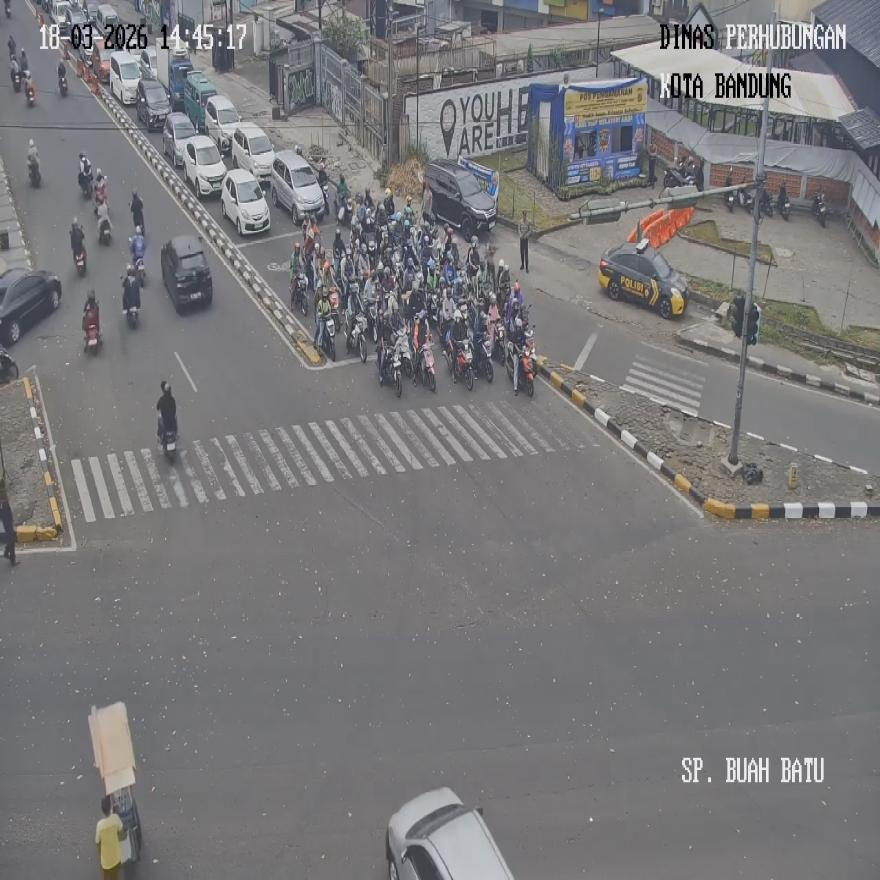Mobil: (385, 787, 515, 879), (599, 236, 688, 319), (421, 158, 498, 237), (0, 268, 62, 347), (161, 234, 212, 312), (222, 168, 270, 234), (183, 134, 227, 198)
Motor: (512, 339, 535, 397), (451, 339, 474, 388), (156, 413, 177, 463), (382, 343, 402, 395), (346, 312, 366, 360), (123, 272, 140, 328), (474, 332, 493, 382), (317, 309, 335, 361), (83, 303, 101, 353), (420, 341, 436, 392), (290, 272, 308, 316), (0, 348, 19, 385), (663, 162, 685, 190), (130, 190, 144, 234), (92, 174, 108, 212), (78, 155, 92, 198), (336, 192, 354, 225), (724, 169, 737, 212), (97, 210, 112, 246), (812, 190, 826, 228), (131, 252, 146, 286), (740, 182, 756, 213), (365, 230, 377, 270), (27, 152, 40, 188), (758, 187, 774, 216), (778, 183, 790, 220), (74, 243, 87, 276), (10, 58, 22, 90), (320, 182, 330, 219), (24, 73, 34, 105), (57, 67, 67, 97), (4, 1, 11, 17)
